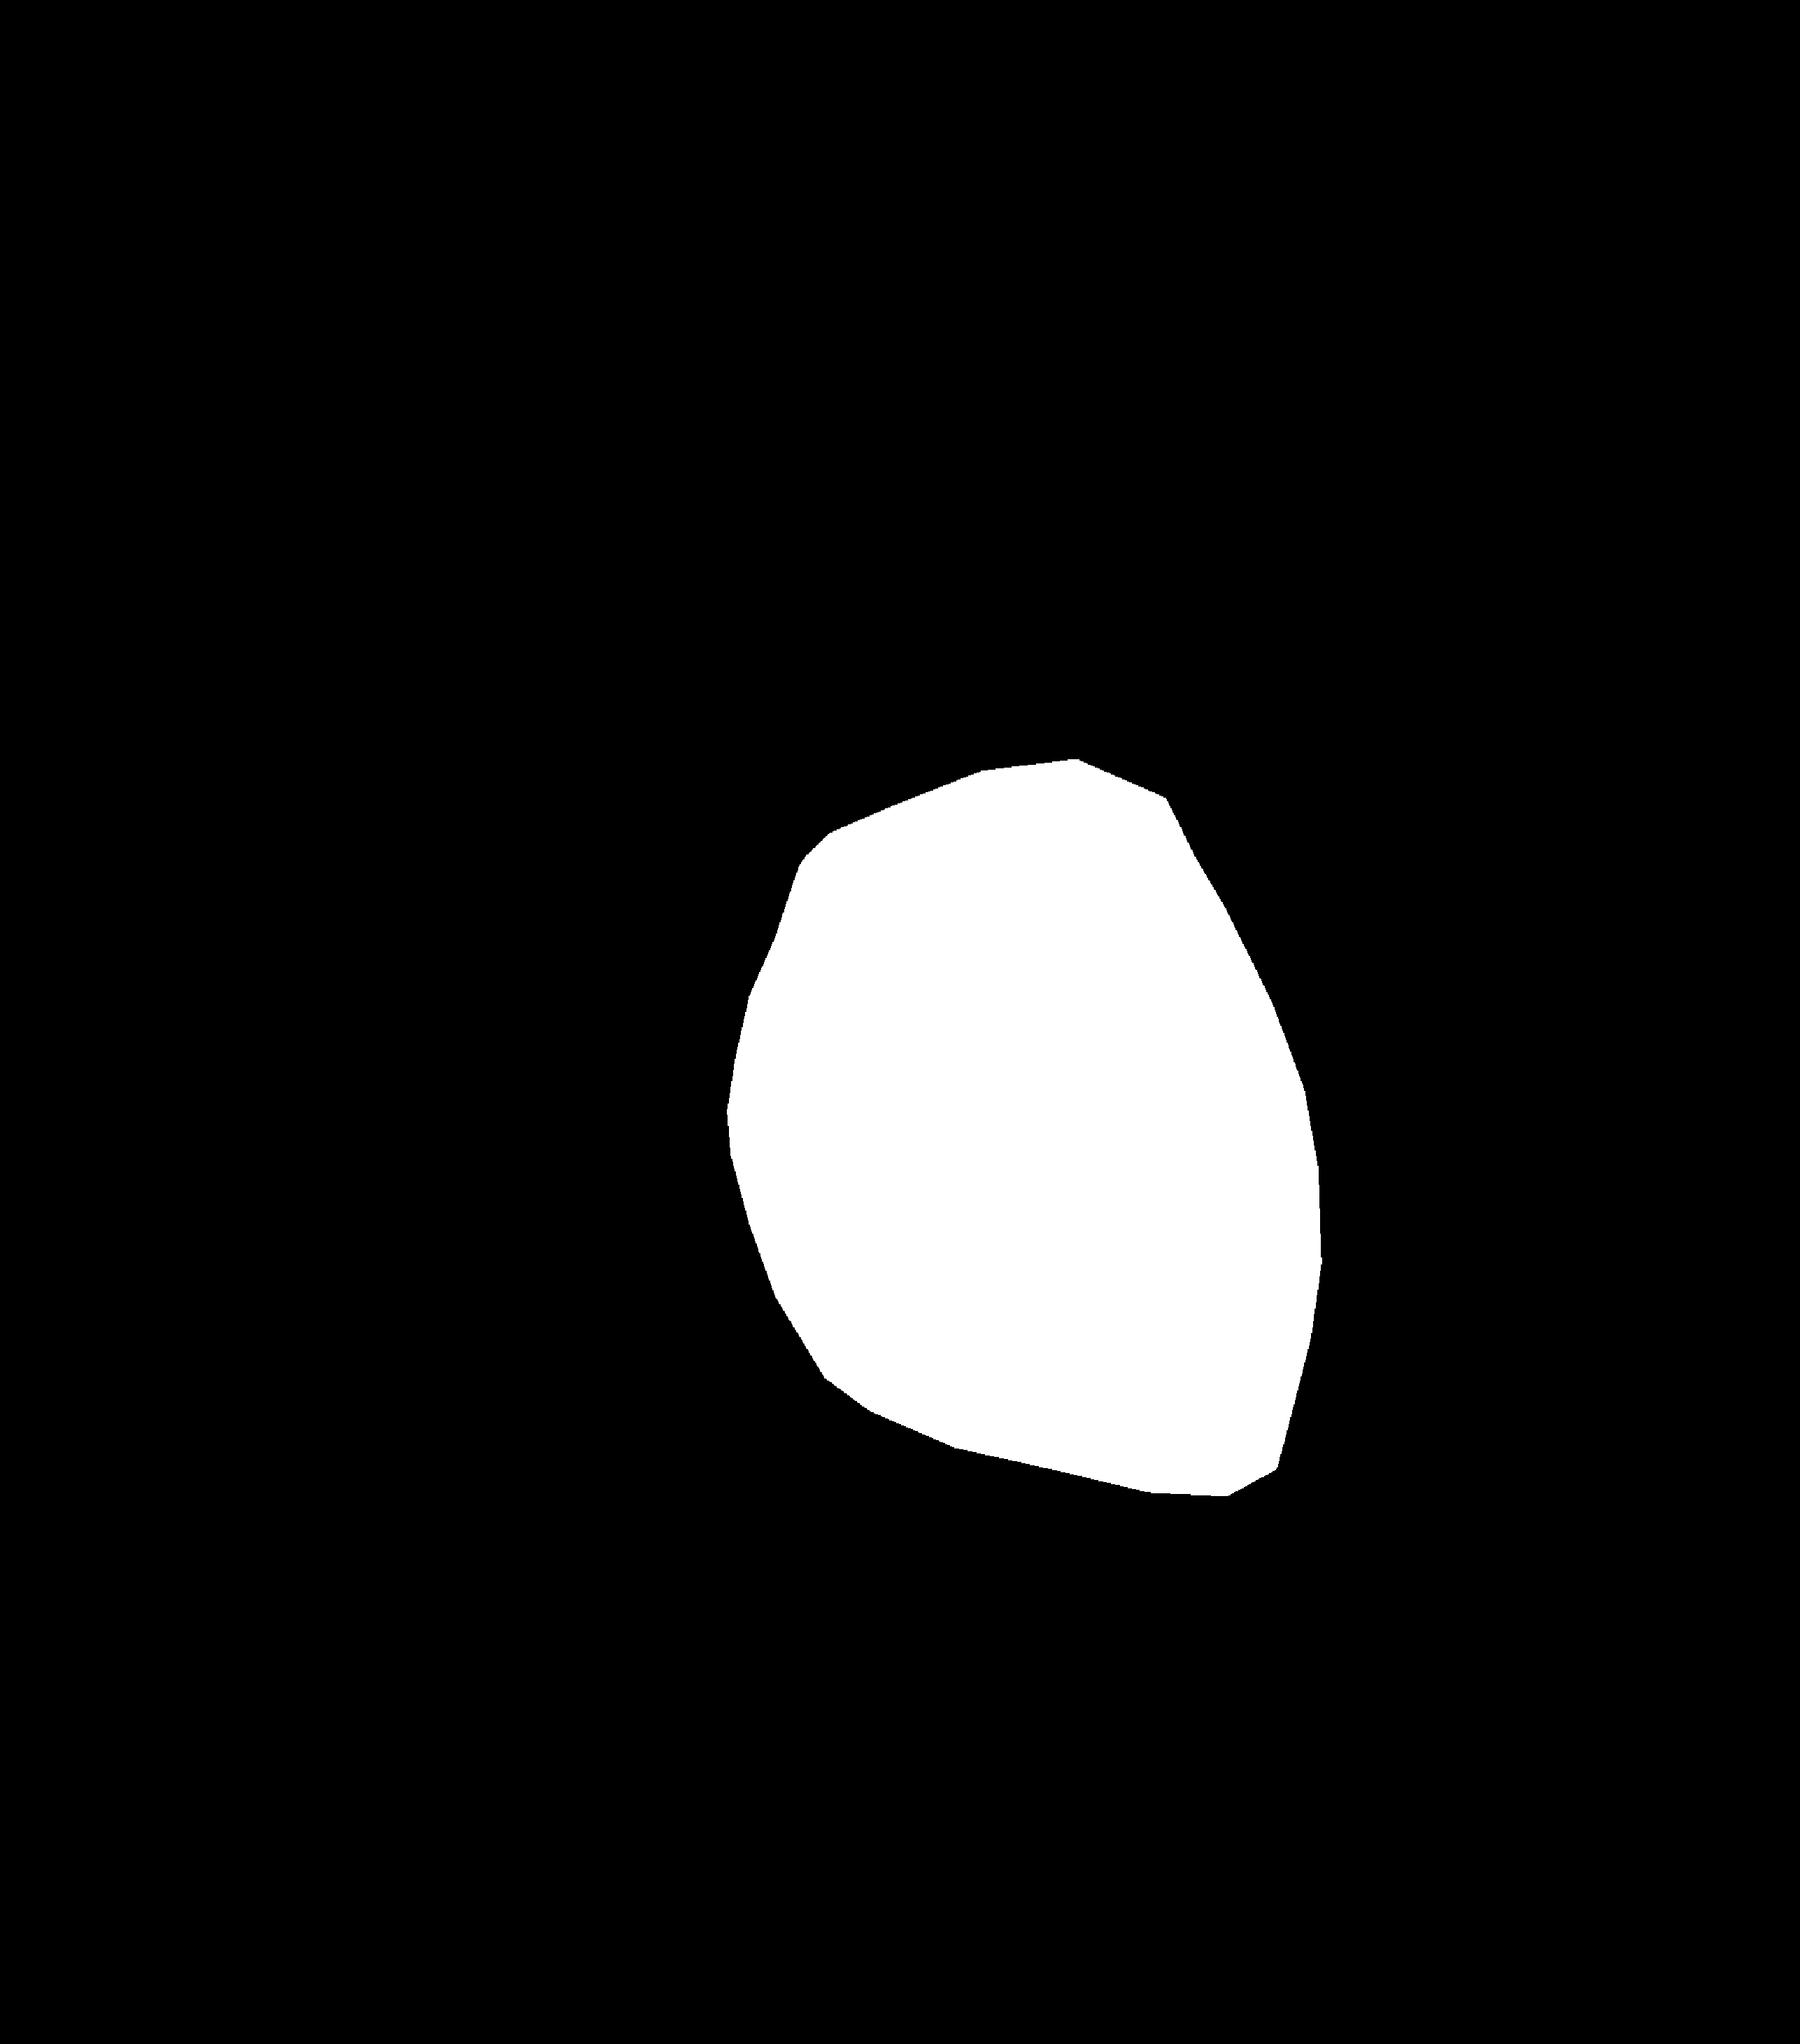heart: (723, 939, 1319, 1427)
left_lung: (266, 146, 831, 1707)
right_lung: (964, 129, 1574, 1649)
